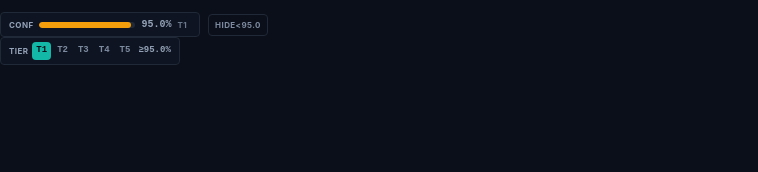
Test case: PART 31 — tier button drives the CONF read-out › [310] T5 explains the clamp in visible copy, not just a tooltip
This screenshot has width=758, height=172.
Click the button "T5".
click(125, 51)  # box [116, 42, 134, 60]
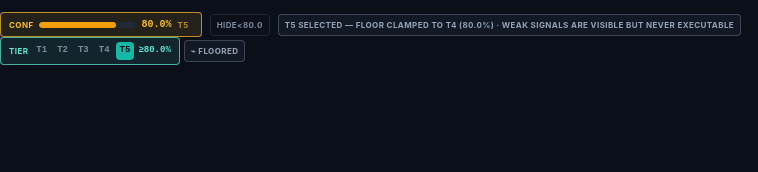
Result: the text "T5 selected — floor clamped to T4 (80.0%) · WEAK signals are visible but never executable" is shown at [285, 20, 734, 30]
Result: the number of elements titled "floor clamped to T4" is 2 at [278, 14, 741, 36]; [184, 40, 245, 62]
